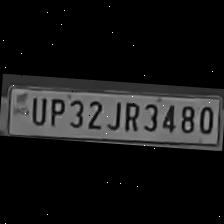0: (195, 103, 215, 134)
2: (83, 96, 105, 131)
3: (64, 94, 84, 128), (139, 98, 159, 132)
4: (158, 100, 178, 134)
8: (178, 101, 196, 133)
J: (103, 97, 121, 131)
P: (46, 94, 66, 128)
R: (120, 98, 140, 133)
U: (26, 92, 46, 125)
